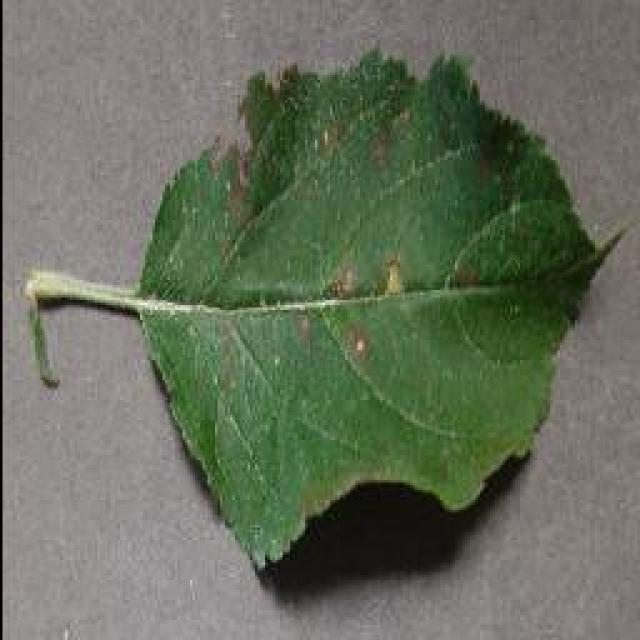apple cedar apple rust: (20, 42, 628, 572)
